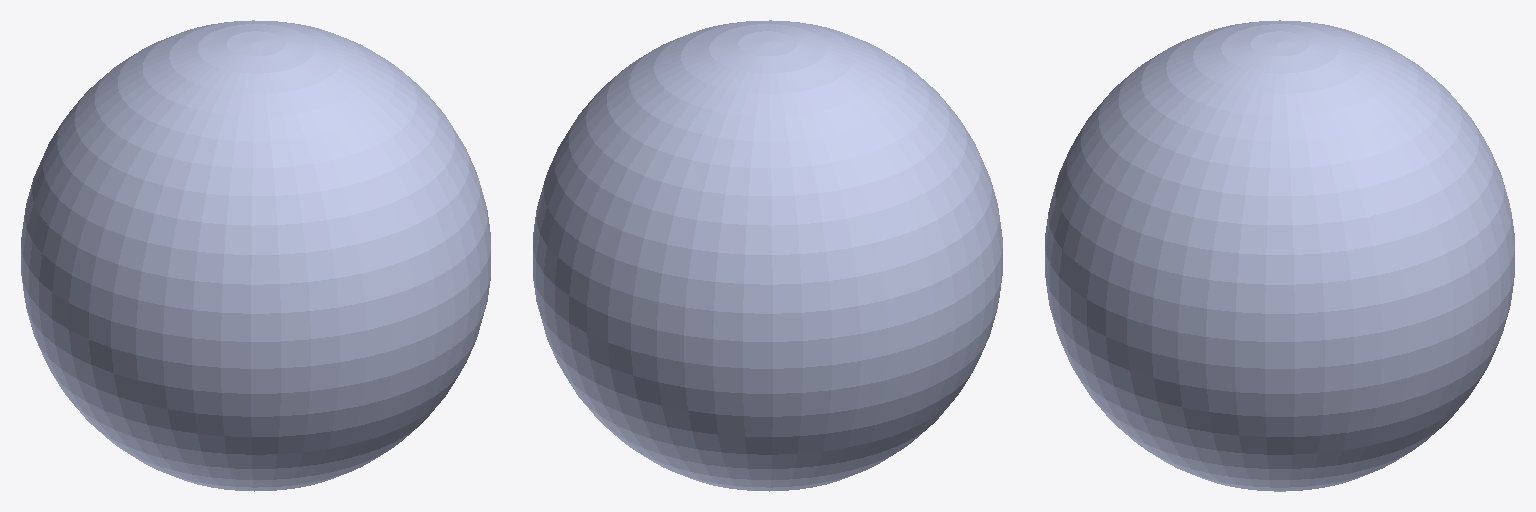
URDF robot description (marker):
<?xml version="1.0" encoding="utf-8"?>
<!-- This URDF was automatically created by SolidWorks to URDF Exporter! Originally created by Stephen Brawner (brawner@gmail.com) 
     Commit Version: 1.6.0-4-g7f85cfe  Build Version: 1.6.7995.38578
     For more information, please see http://wiki.ros.org/sw_urdf_exporter -->
<robot
  name="marker">
  <link
    name="base_link">
    <inertial>
      <origin
        xyz="0.653816152591362 0.854677523513925 1.28140644383866"
        rpy="0 0 0" />
      <mass
        value="0.00418879020478639" />
      <inertia
        ixx="1.67551608191456E-07"
        ixy="0"
        ixz="0"
        iyy="1.67551608191456E-07"
        iyz="0"
        izz="1.67551608191456E-07" />
    </inertial>
    <visual>
      <origin
        xyz="0 0 0"
        rpy="0 0 0" />
      <geometry>
        <mesh
          filename="package://marker/meshes/base_link.STL" />
      </geometry>
      <material
        name="">
        <color
          rgba="0.792156862745098 0.819607843137255 0.933333333333333 1" />
      </material>
    </visual>
    <collision>
      <origin
        xyz="0 0 0"
        rpy="0 0 0" />
      <geometry>
        <mesh
          filename="package://marker/meshes/base_link.STL" />
      </geometry>
    </collision>
  </link>
</robot>

--- What the picture shows (computed from the rendered views, not written in the file) ---
The picture shows the robot from 3 angles, left to right: view 1: azimuth 30°, elevation 25°; view 2: azimuth 150°, elevation 25°; view 3: azimuth 270°, elevation 25°; orthographic projection.
Robot: marker — 1 links, 0 joints (none); root link base_link; default pose: all joints at 0.
Links seen in each view (by area): view 1: base_link; view 2: base_link; view 3: base_link.
Boxes of the visible links, x1=… form: base_link: x1=21, y1=20, x2=490, y2=491; base_link: x1=533, y1=20, x2=1002, y2=491; base_link: x1=1045, y1=20, x2=1514, y2=491.
Size in the robot's own frame: 0.0199 by 0.02 by 0.02 metres.
1 mesh visuals loaded from 1 distinct referenced files (1 binary STL).
